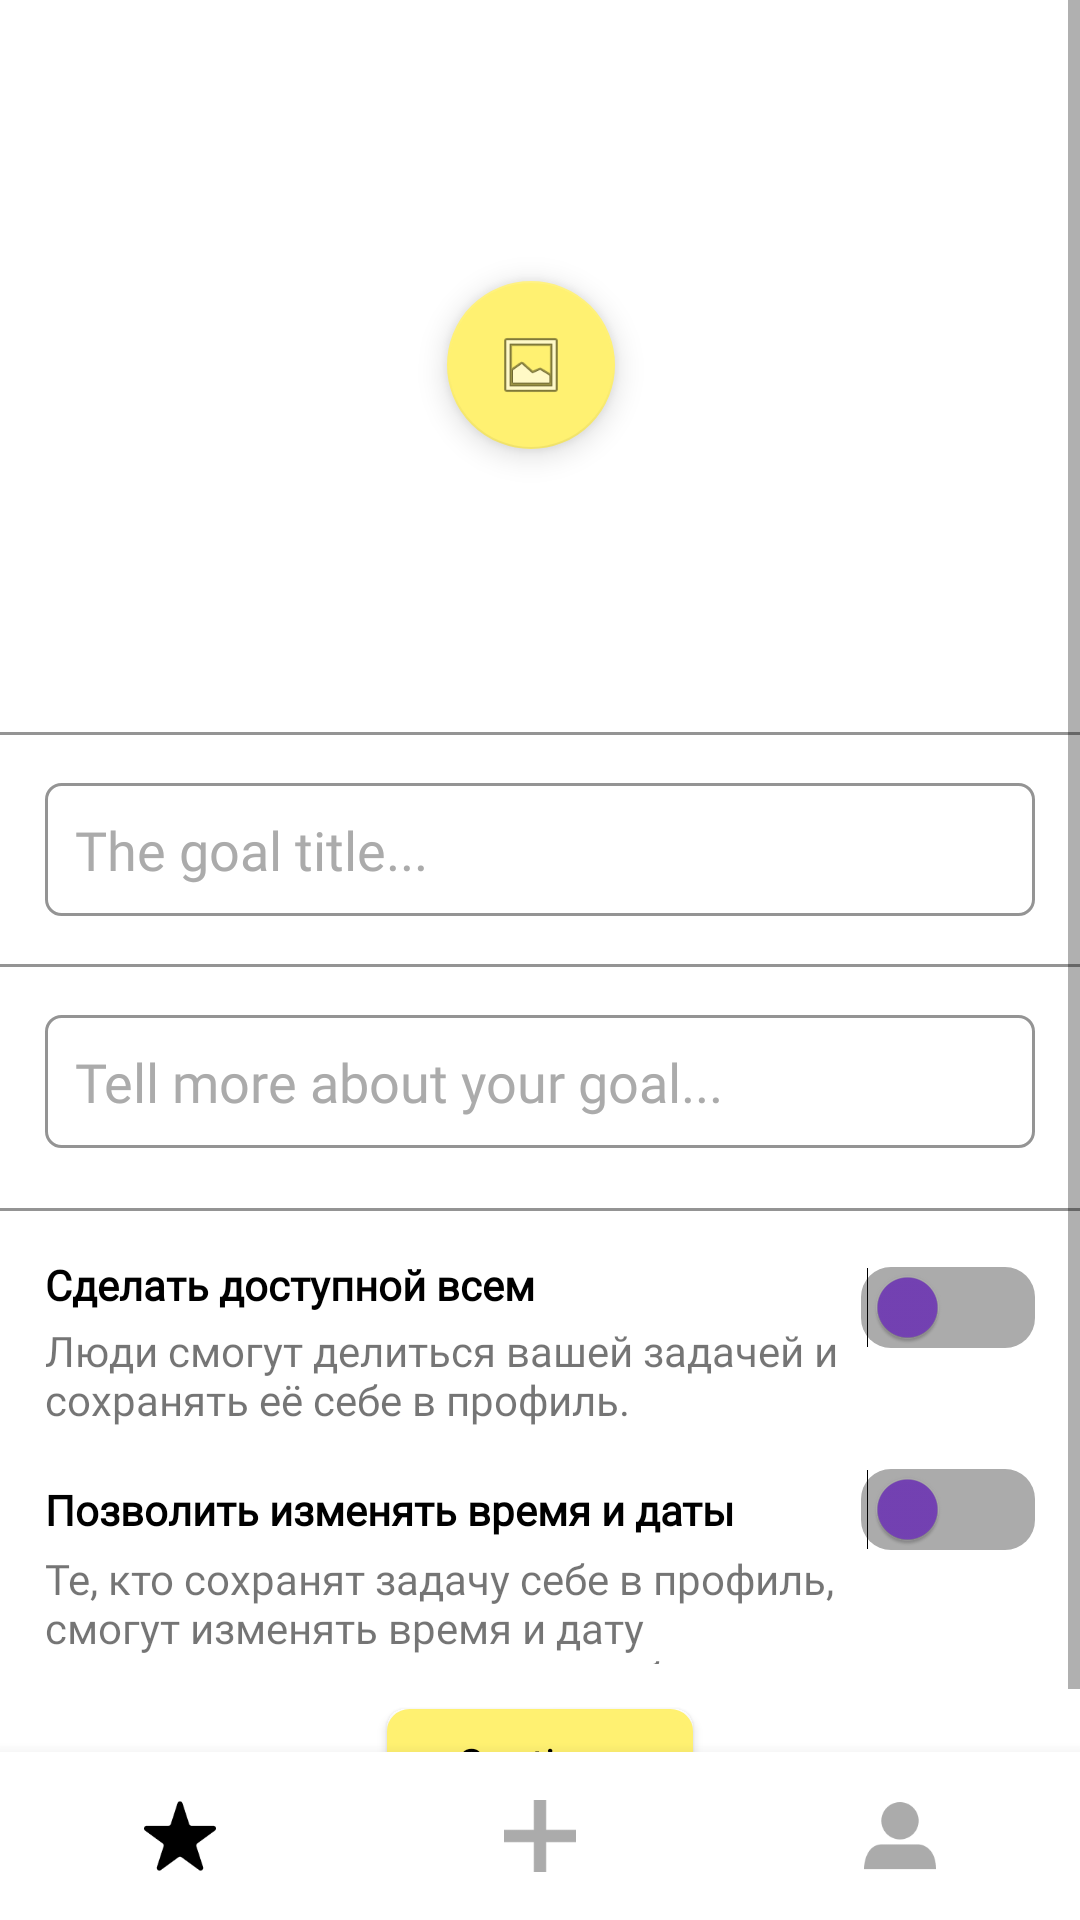

Icon bounding boxes for this 1080px x 1920px phone screenshot, format (x1, y1, x2, y2):
gallery: (447, 281, 615, 449)
